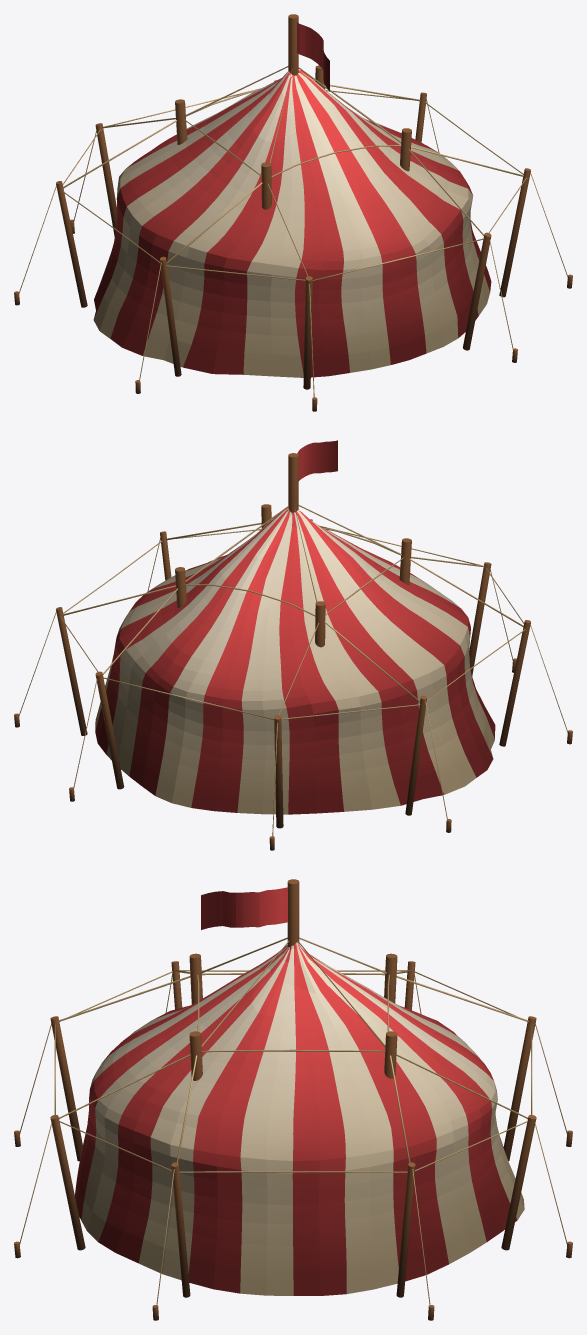
The model's file is CarpaDeCircoEstirada.fbx.
3 views of the same model, one above another, from view 1: azimuth 30°, elevation 25°; view 2: azimuth 150°, elevation 25°; view 3: azimuth 270°, elevation 25° (orthographic). The views are drawn at different scales.
Visible parts, largest first — view 1: Plane.002; view 2: Plane.002; view 3: Plane.002.
Part boxes in pixels (<box>): Plane.002: <box>14,14,572,411</box>; Plane.002: <box>14,440,572,850</box>; Plane.002: <box>14,879,572,1320</box>.
Bounding box in the file's own units: 1069 × 667 × 1042.
Materials: 4 (4 with a texture image).
